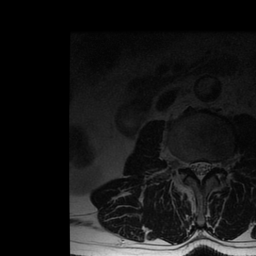CCS_normal: (197, 155, 204, 188)
LFS_stenosis: (212, 156, 220, 176)
LLS_normal: (204, 156, 212, 181)
RFS_normal: (181, 152, 189, 179)
RLS_normal: (189, 156, 197, 180)
